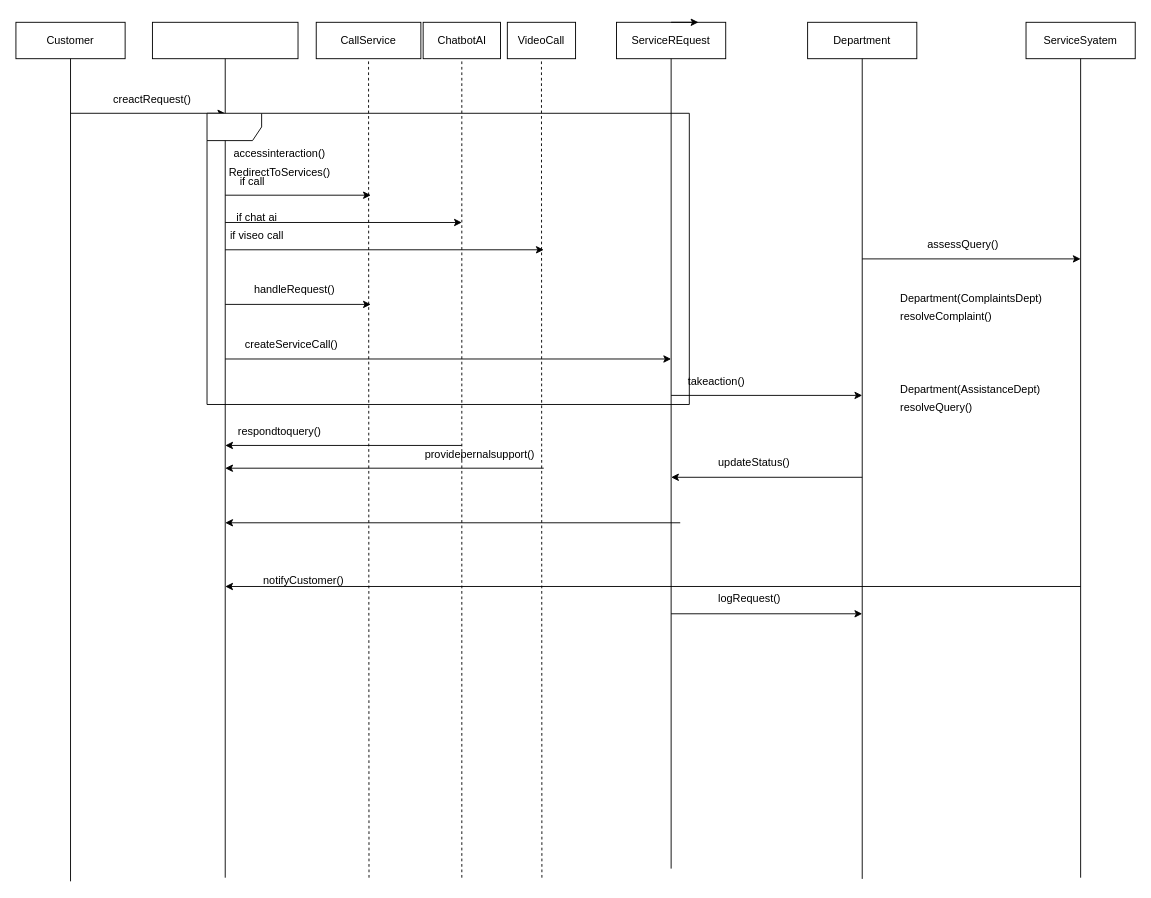
Some shapes in this 1151 by 898 pixel diagram are drawn without their labels. The box of each missing label's shape, as (x1, y1, x2, y2) in pixels:
customerServicesSyastem: (152, 21, 298, 59)
intersction: (206, 112, 689, 404)
